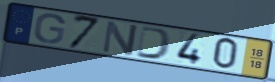0: (211, 36, 241, 73)
4: (173, 31, 203, 67)
7: (66, 13, 103, 51)
D: (135, 25, 174, 62)
G: (32, 13, 67, 45)
N: (100, 19, 141, 57)
